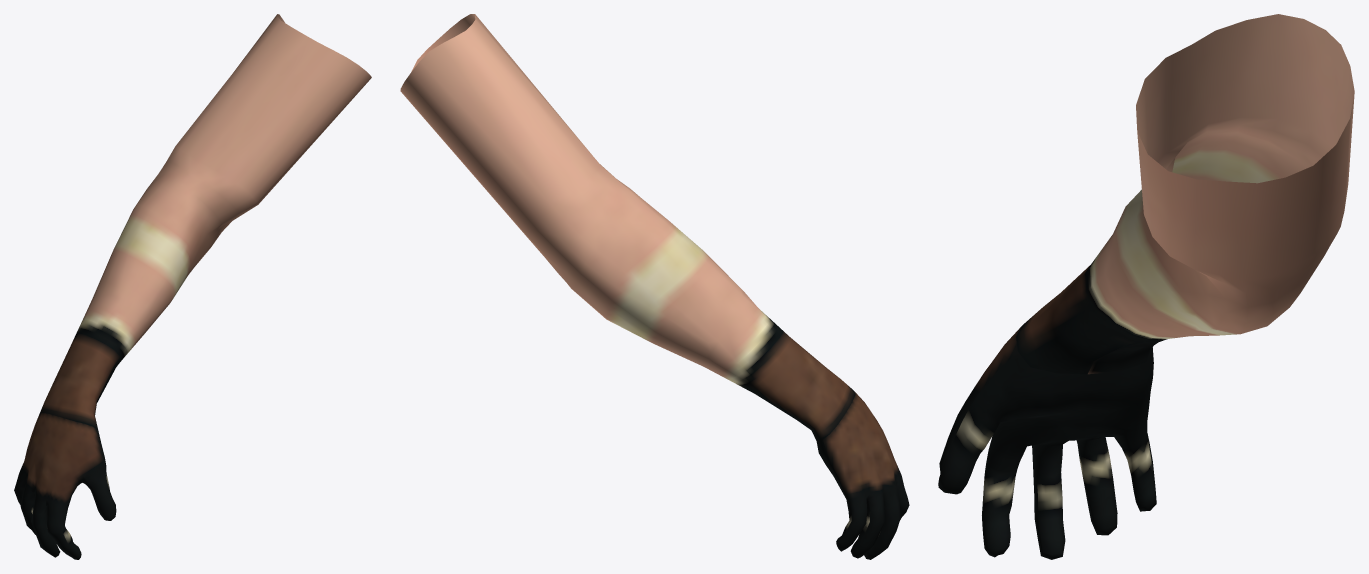
Rendered from Hand2.obj.
3 renders of one model, left to right at view 1: azimuth 30°, elevation 25°; view 2: azimuth 150°, elevation 25°; view 3: azimuth 270°, elevation 25°, orthographic. The views are drawn at different scales.
Parts seen in each view (by area): view 1: BasicBandit_Body; view 2: BasicBandit_Body; view 3: BasicBandit_Body.
Boxes of the visible parts, bbox=[...] form: BasicBandit_Body: bbox=[14, 14, 371, 559]; BasicBandit_Body: bbox=[400, 14, 909, 559]; BasicBandit_Body: bbox=[938, 14, 1354, 559].
Size of the model in its own units: 51.88 by 56.4 by 26.18.
